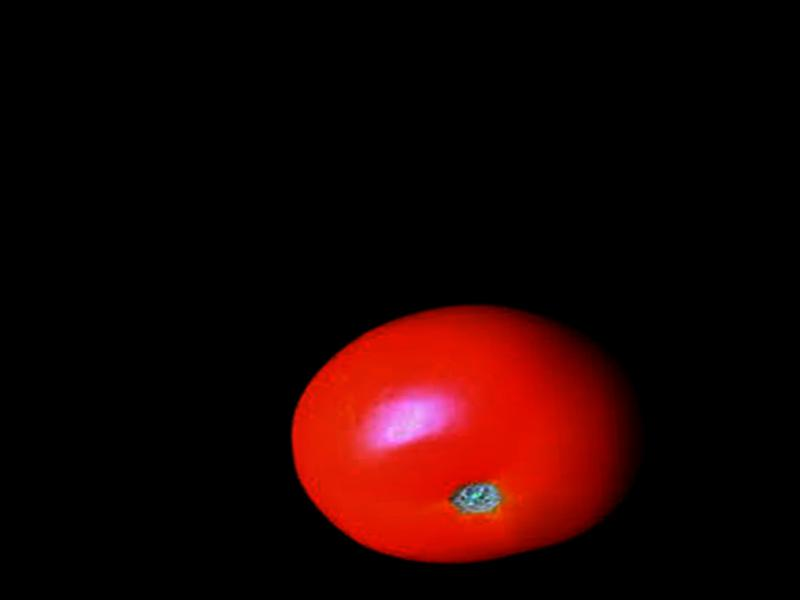Tomato: (280, 291, 654, 575)
